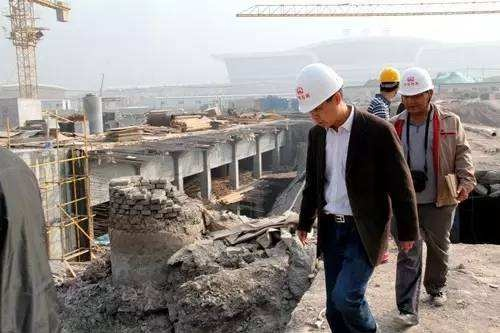white: (295, 62, 348, 129), (398, 65, 434, 114)
yellow: (377, 66, 402, 99)
